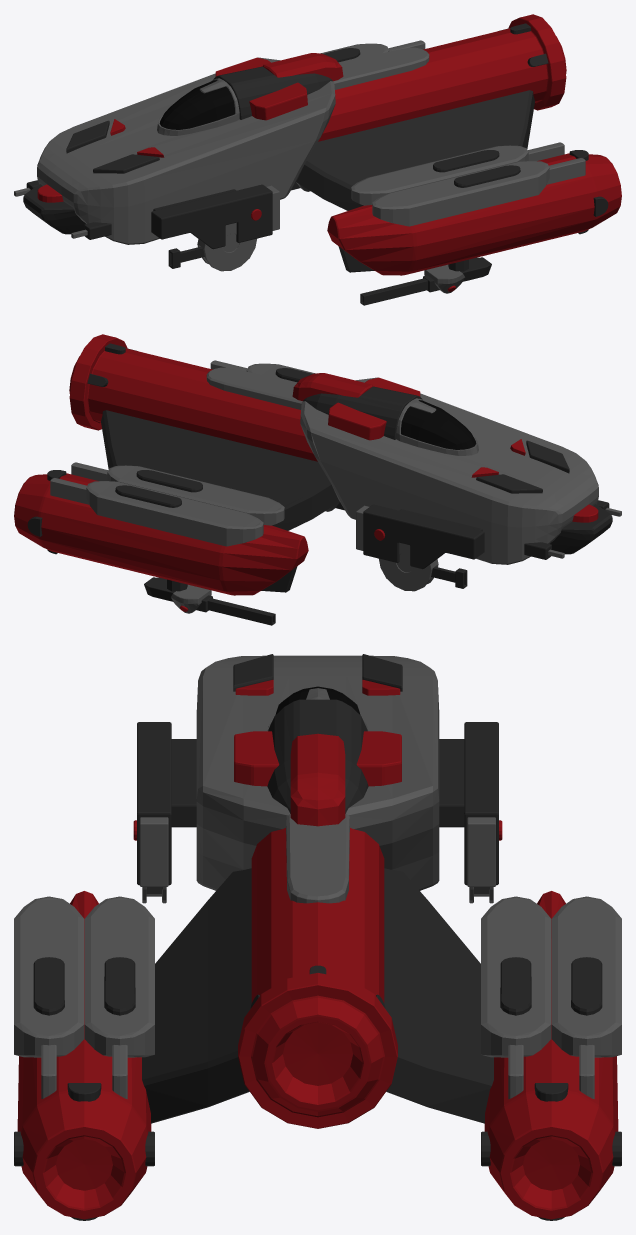
Rendered from fga_fregate5_r.glb.
3 renders of one model, top to bottom at view 1: azimuth 30°, elevation 25°; view 2: azimuth 150°, elevation 25°; view 3: azimuth 270°, elevation 25°, orthographic. The views are drawn at different scales.
Visible parts, largest first — view 1: Frigate_5; view 2: Frigate_5; view 3: Frigate_5.
Part boxes in pixels (box(x1,y1,x2,y2)): Frigate_5: box(14, 14, 621, 305); Frigate_5: box(14, 334, 621, 625); Frigate_5: box(14, 654, 621, 1220).
Bounding box in the file's own units: 3577 × 1296 × 2165.
1 material, 1 textured.
